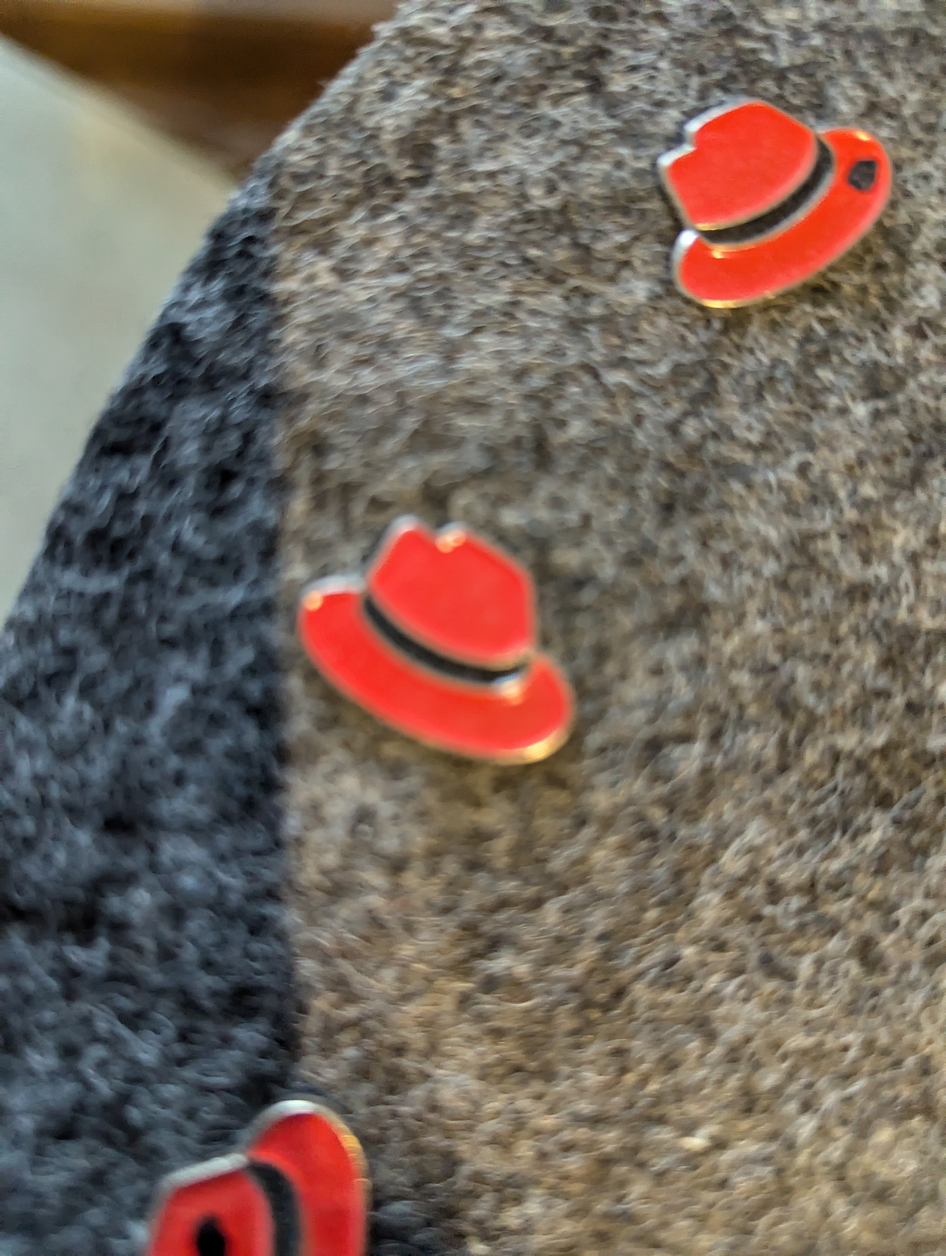Red-Hat: (279, 490, 611, 797), (637, 68, 911, 333), (125, 1078, 384, 1256)
Scratch: (180, 1201, 242, 1256), (842, 148, 898, 208)
